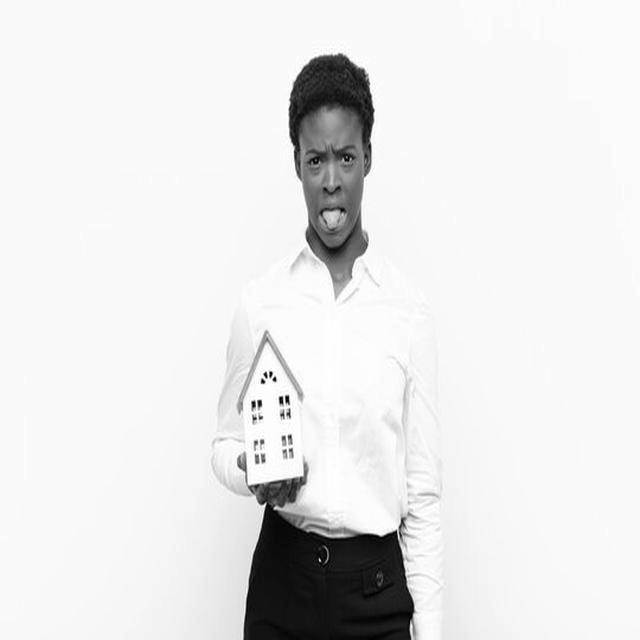Disgust: (298, 105, 364, 250)
